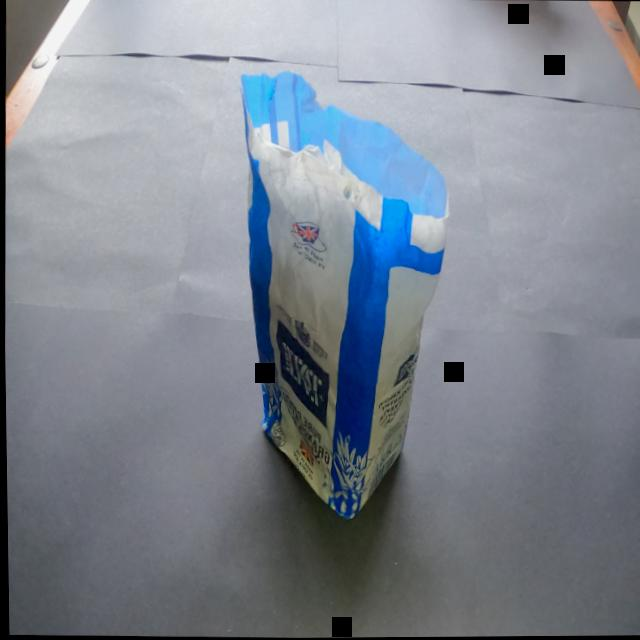Whitesugar: (214, 59, 462, 542)
